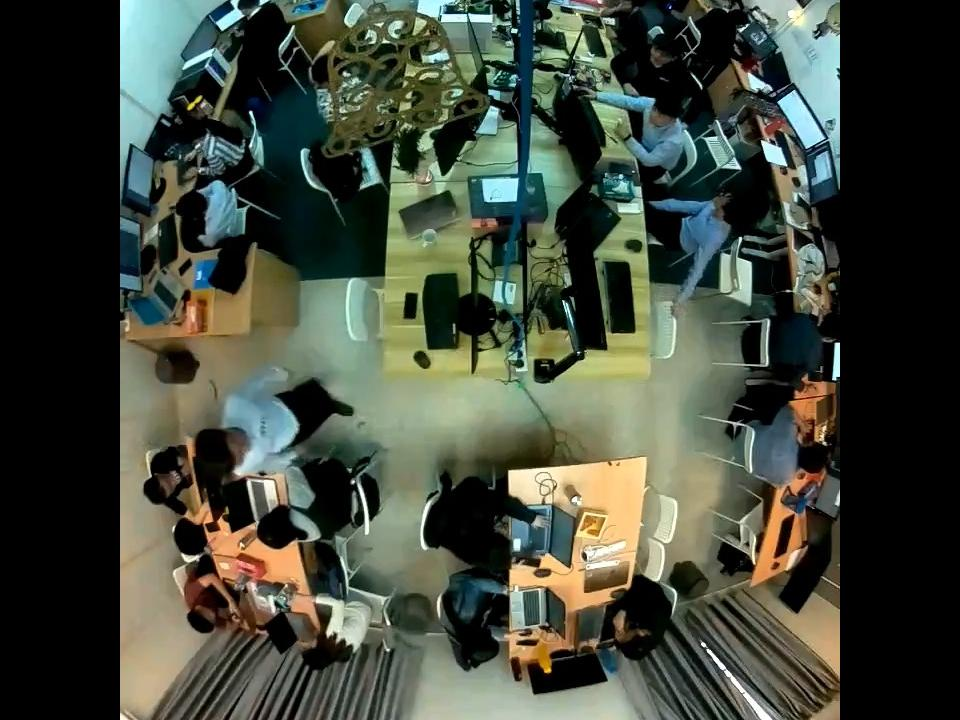name-tag: (259, 416, 268, 436)
